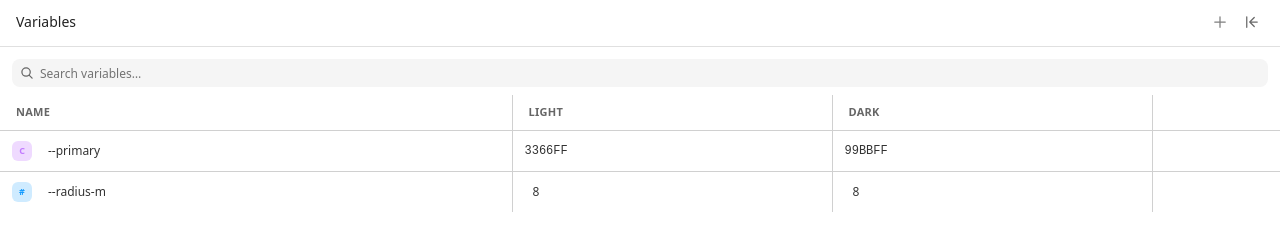
it: <VariablesPanelContent /> › escaping an edit leaves the store unchanged
The width and height of the screenshot is (1280, 229).
Click the text "--primary" at point(74, 150), box [48, 142, 100, 159]
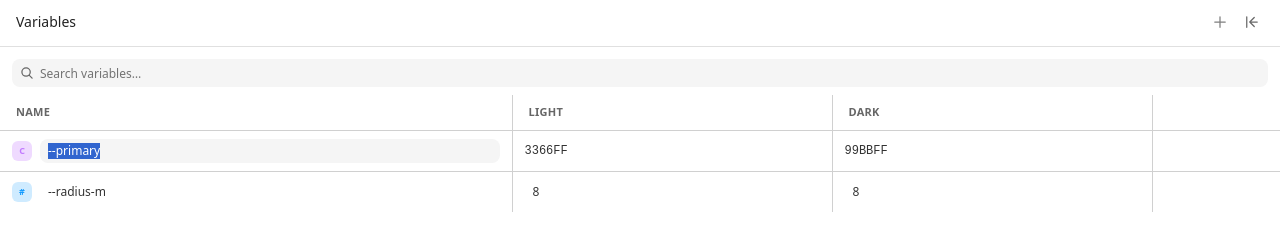
Replace the text in the field showing "--primary" with "--throwaway" at point(270, 151), box [40, 139, 500, 163]
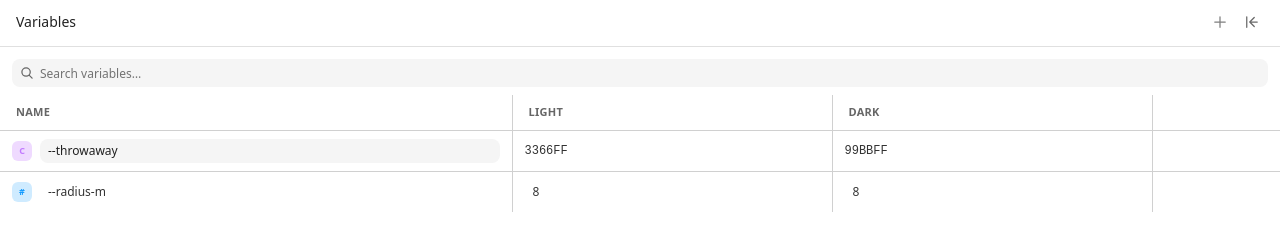
Press Escape in the field showing "--primary", box [40, 139, 500, 163]
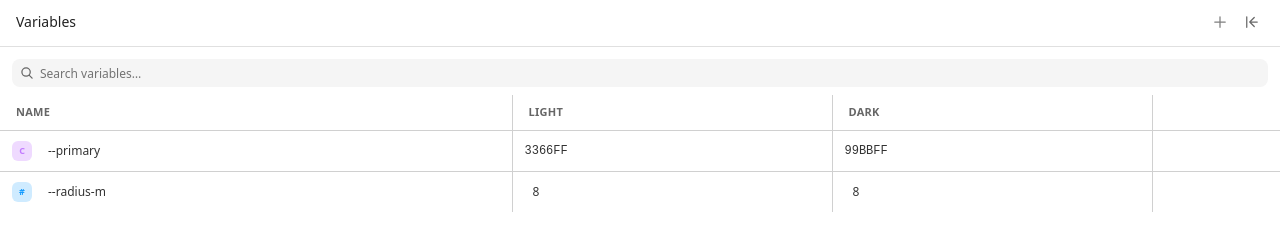
Expected: the text "--primary" is shown, [48, 142, 100, 159]
